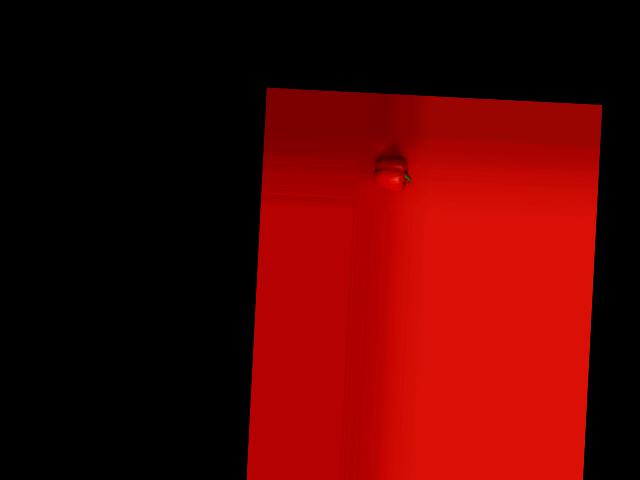bell_pepper: (370, 152, 413, 191)
